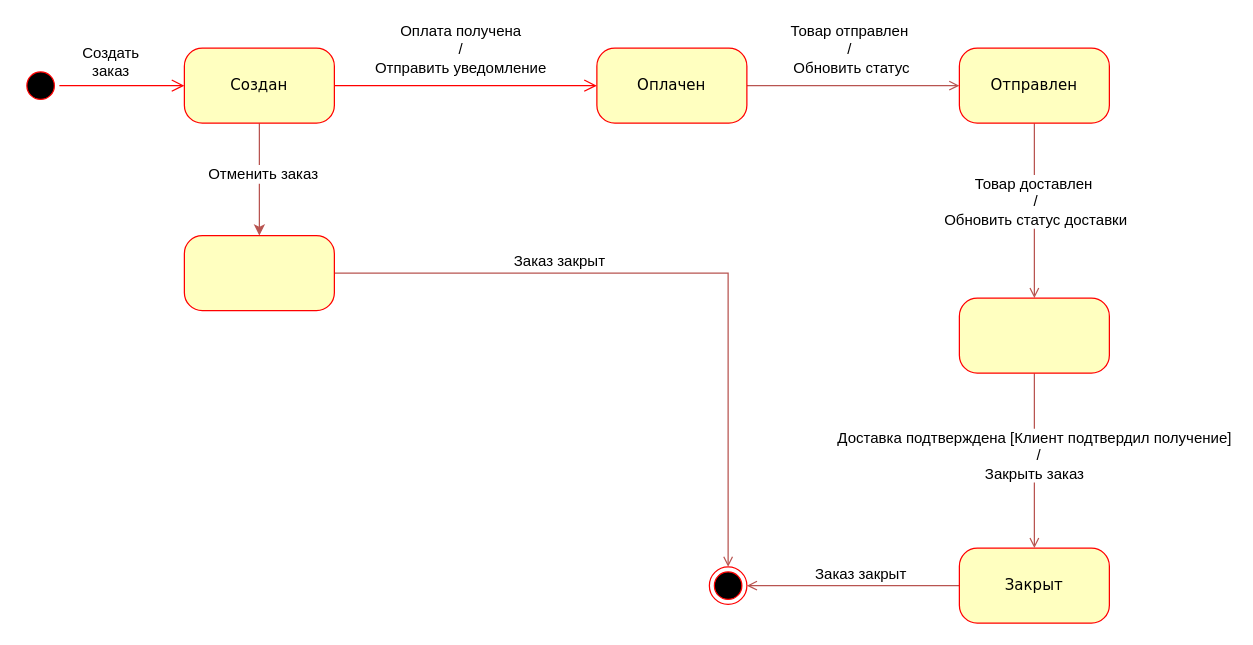
Image size: 1253x645. Some labels were removed from this diagram. Each missing label, with the centre of its shape:
"Доставлен" goes at point (1033, 335).
"Отменен" goes at point (258, 272).
